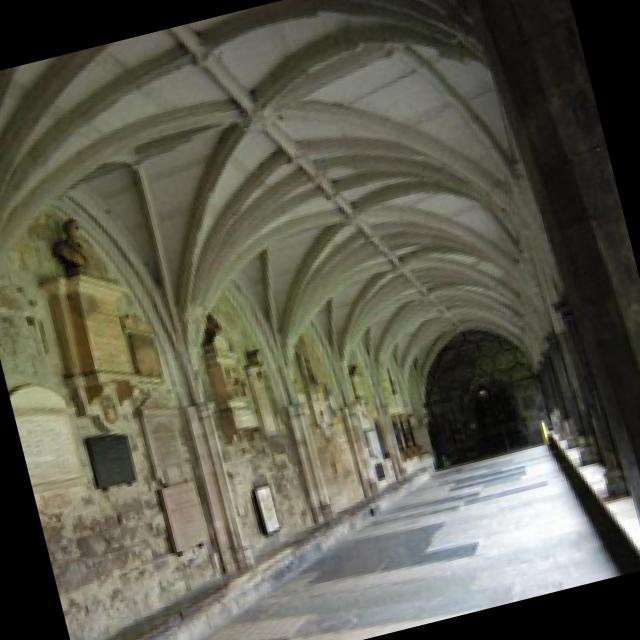door bars: (473, 383, 524, 455)
floor -X: (197, 438, 636, 640)
step: (108, 458, 441, 640)
wall clock: (0, 194, 437, 640), (480, 0, 640, 568), (424, 325, 555, 464)
